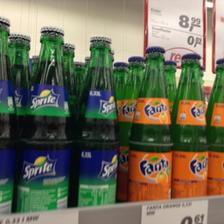Soda: (19, 25, 71, 211), (70, 35, 118, 207), (128, 44, 174, 200), (172, 52, 208, 196)
